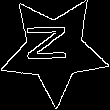N_E: (30, 29, 79, 71)
